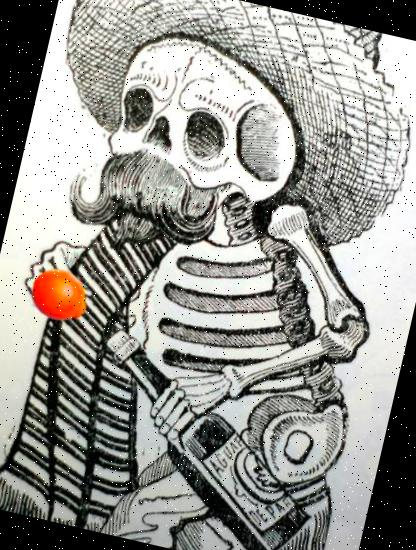Tangelo: (24, 260, 96, 331)
